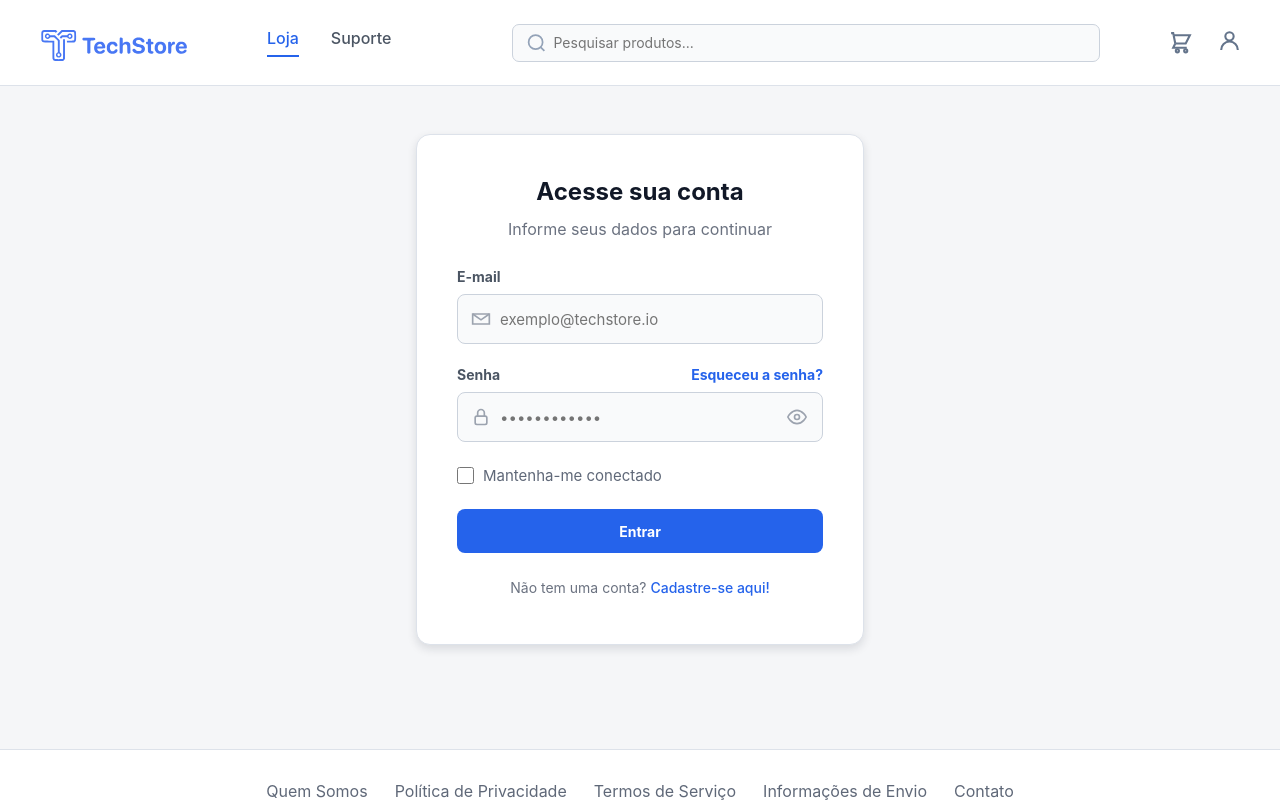
Test case: exibe mensagem de erro quando o login falha
Type "errado@exemplo.com" into the field labelled "E-mail". click: (640, 319)
box: [457,294,823,344]
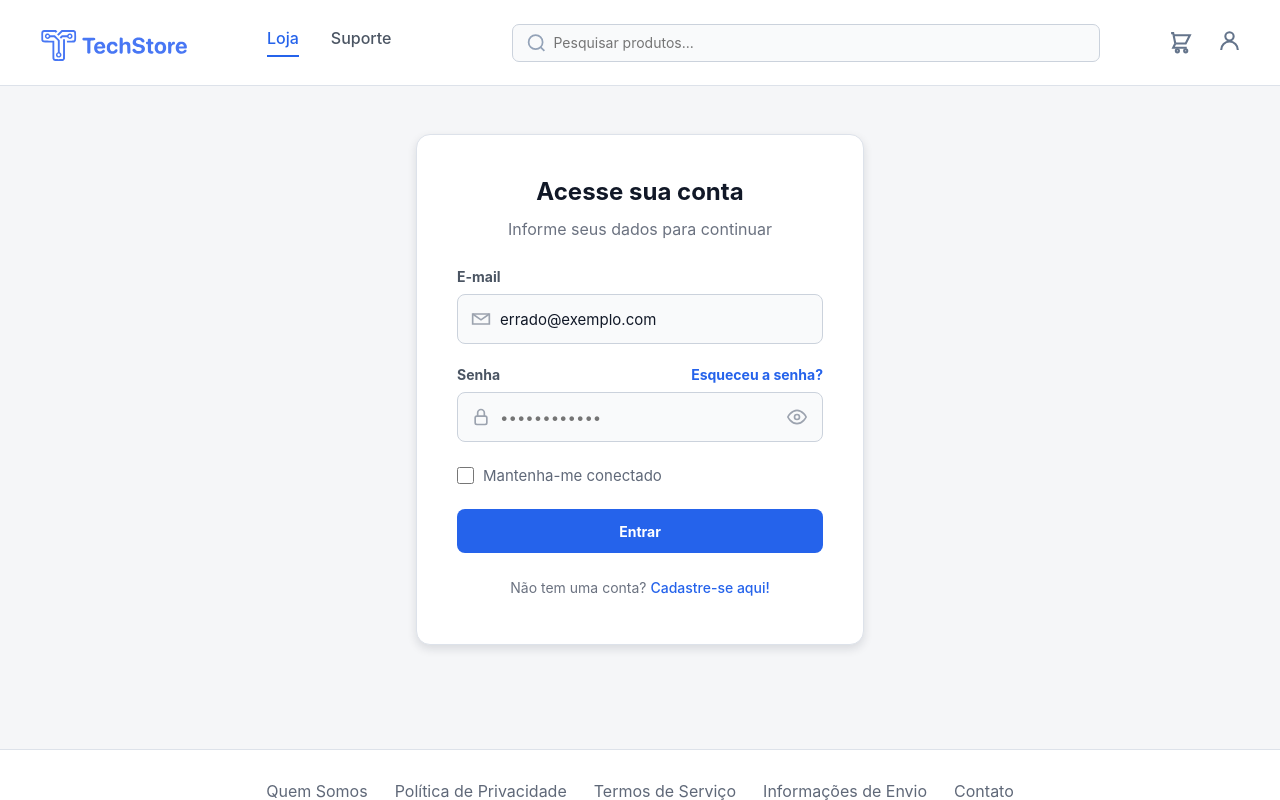
Type "senhaErrada" into the password field labelled "Senha". click: (640, 417)
box: [457,392,823,442]
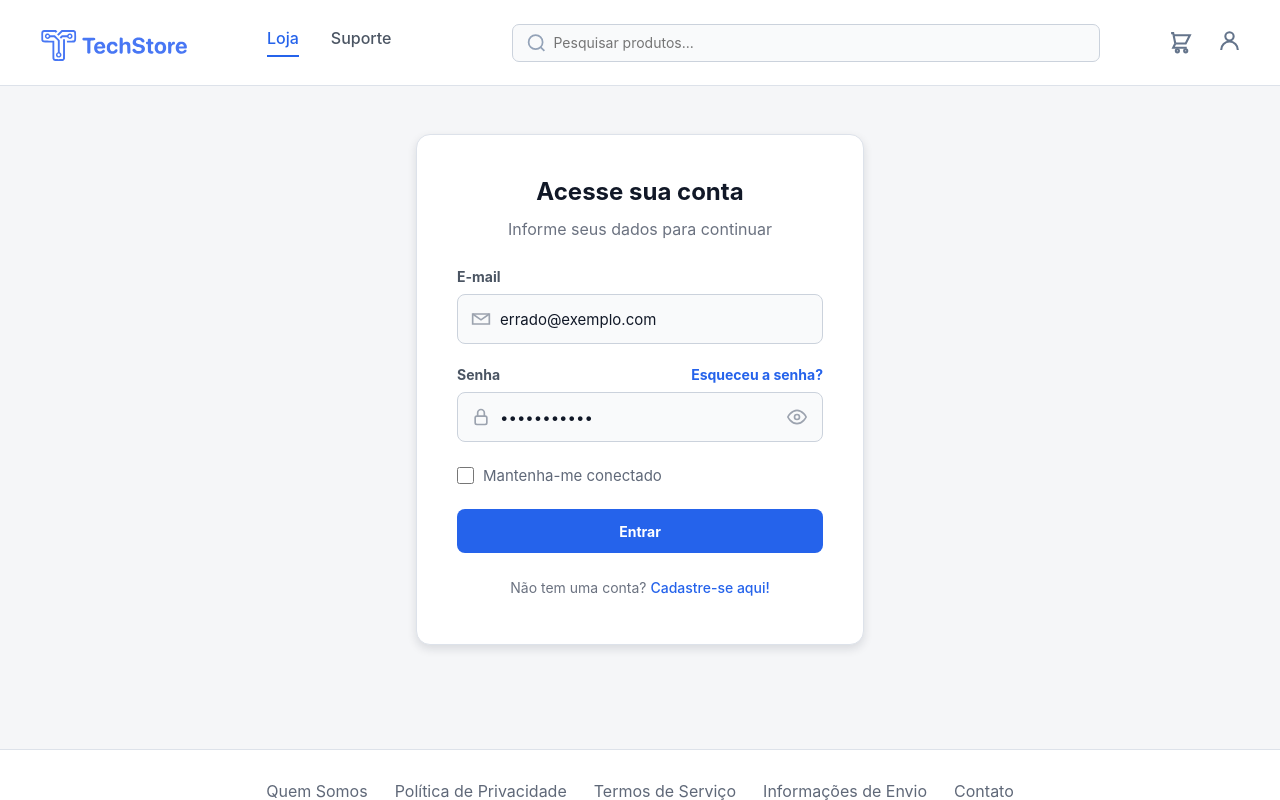
Click the button "Entrar". click: click(640, 531)
box: [457,509,823,553]
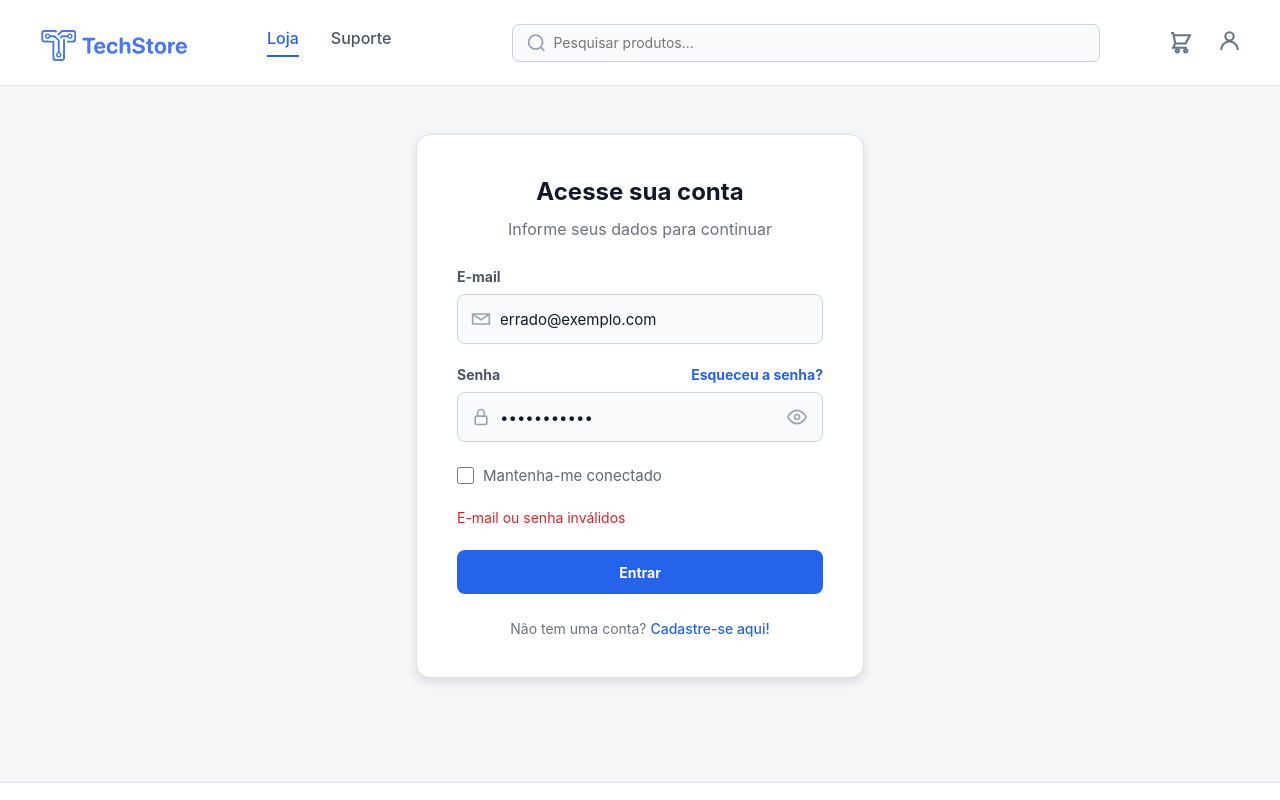
Result: the message "E-mail ou senha inválidos" is shown at [457,509,626,526]
